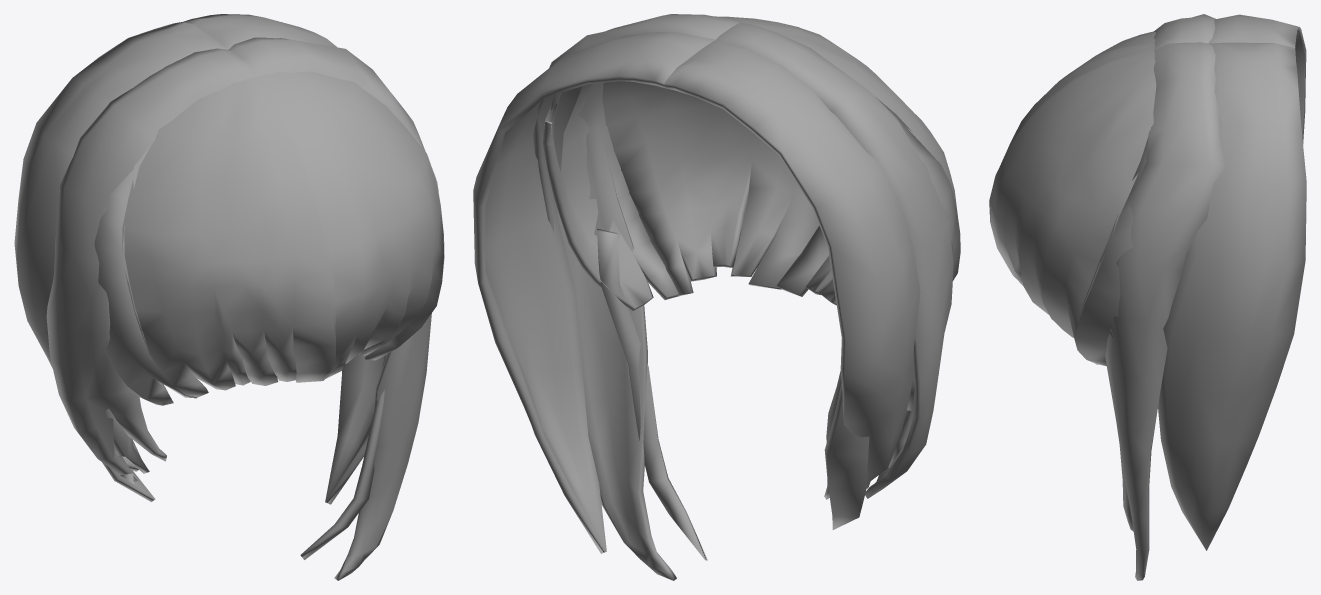
Rendered from HairFront7.fbx.
The picture shows the model from 3 angles, left to right: view 1: azimuth 30°, elevation 25°; view 2: azimuth 150°, elevation 25°; view 3: azimuth 270°, elevation 25°; orthographic projection. The views are drawn at different scales.
Parts seen in each view (by area): view 1: HairFront7_mesh; view 2: HairFront7_mesh; view 3: HairFront7_mesh.
Boxes of the visible parts, x1,y1,x2,y2 form: HairFront7_mesh: (14,14,444,580); HairFront7_mesh: (473,14,960,580); HairFront7_mesh: (989,14,1306,580).
Bounding box in the file's own units: 24.59 × 33.11 × 18.89.
Materials: 3 (3 with a texture image).
